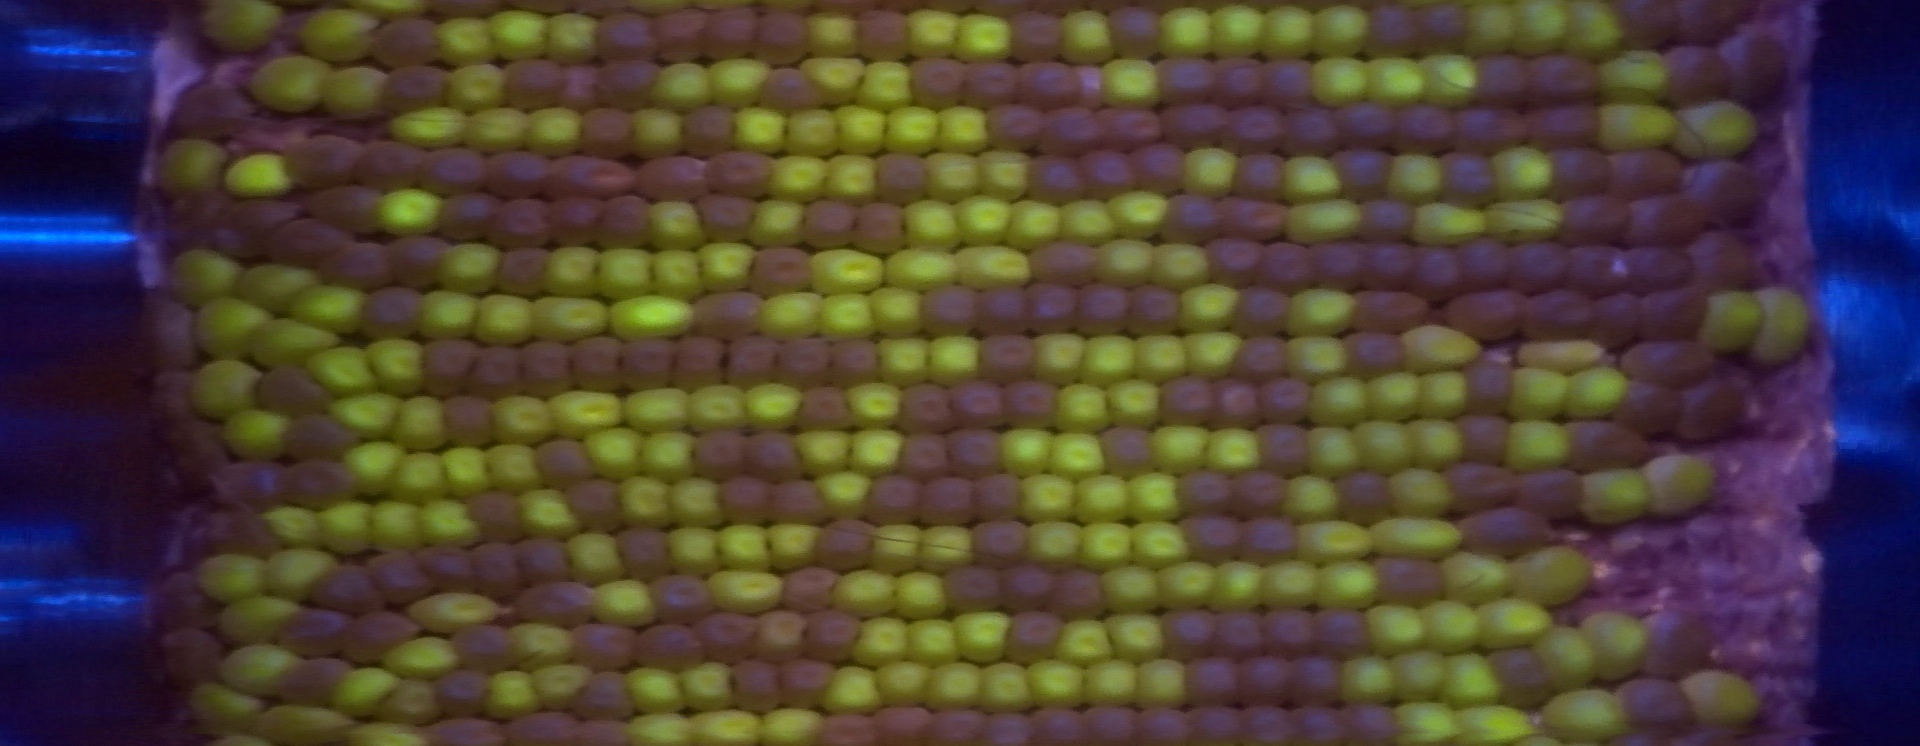fluorescent: (1507, 548, 1592, 609), (1674, 100, 1755, 164), (247, 58, 324, 116), (1543, 687, 1629, 740), (189, 356, 260, 419), (1644, 456, 1714, 517), (709, 563, 781, 619), (1701, 294, 1764, 356), (1598, 98, 1675, 149), (191, 301, 264, 355), (1757, 290, 1807, 369), (236, 260, 311, 312), (1687, 670, 1758, 725), (329, 666, 396, 725), (200, 1, 277, 51), (1404, 200, 1485, 247), (220, 644, 295, 696), (1296, 514, 1374, 563), (611, 296, 693, 343), (1283, 285, 1360, 334), (300, 9, 375, 59), (959, 241, 1033, 292), (1536, 625, 1598, 685), (1051, 380, 1116, 437), (169, 247, 235, 304), (411, 592, 503, 632), (1581, 468, 1647, 523), (1591, 610, 1644, 677), (955, 610, 1015, 670), (1442, 550, 1511, 601), (1480, 600, 1554, 648), (1502, 418, 1567, 472), (257, 318, 334, 364), (511, 620, 577, 673), (227, 409, 294, 461), (1024, 514, 1082, 573), (883, 247, 959, 293), (1456, 706, 1540, 746), (1369, 521, 1458, 559), (323, 62, 383, 119), (437, 15, 498, 70), (260, 702, 361, 735), (387, 109, 465, 152), (516, 488, 579, 540), (1404, 327, 1480, 371), (811, 247, 884, 293), (1603, 50, 1669, 100), (1485, 201, 1565, 243), (534, 298, 611, 341), (193, 555, 264, 601), (1030, 657, 1091, 710), (291, 285, 366, 330), (1447, 648, 1500, 710), (1422, 601, 1485, 653), (156, 141, 220, 191), (495, 10, 553, 65), (311, 345, 377, 394), (853, 612, 913, 666), (1510, 367, 1570, 421), (1389, 467, 1449, 521), (1384, 152, 1445, 205), (441, 240, 503, 292), (1515, 2, 1571, 59), (1303, 420, 1360, 475), (976, 659, 1031, 717), (1062, 9, 1116, 67), (465, 108, 531, 156), (329, 392, 396, 440), (1286, 198, 1359, 241), (1284, 332, 1346, 383), (372, 336, 421, 399), (709, 54, 764, 110), (492, 394, 549, 450), (396, 453, 452, 508), (1070, 470, 1127, 526), (1287, 470, 1343, 526), (421, 499, 478, 554), (375, 190, 440, 238), (553, 388, 618, 436), (216, 600, 291, 641), (1151, 241, 1213, 290), (260, 544, 322, 593), (1007, 195, 1062, 250), (260, 503, 315, 559), (1495, 145, 1550, 200), (909, 5, 960, 64), (1360, 421, 1419, 473), (484, 669, 542, 720), (696, 243, 757, 292), (384, 635, 451, 680), (1258, 563, 1324, 609), (1124, 473, 1187, 521), (182, 680, 258, 719), (222, 154, 289, 198), (825, 156, 880, 209), (955, 12, 1011, 65), (388, 397, 444, 450), (1179, 281, 1236, 333), (819, 292, 876, 344), (905, 200, 964, 250), (584, 430, 643, 480), (1149, 423, 1207, 473), (598, 247, 658, 296), (816, 470, 876, 519), (1044, 432, 1106, 480), (1570, 4, 1618, 65), (1315, 56, 1370, 109), (545, 246, 598, 301), (651, 198, 704, 254), (571, 533, 626, 586), (478, 289, 534, 341), (640, 428, 692, 484), (419, 285, 478, 334), (595, 578, 655, 626), (624, 668, 684, 715), (1515, 338, 1604, 370), (1085, 657, 1138, 710), (1155, 9, 1210, 60), (749, 198, 804, 250), (1423, 51, 1474, 107), (525, 108, 582, 158), (1156, 559, 1213, 608), (760, 292, 820, 338), (669, 479, 721, 532), (719, 521, 771, 573), (1371, 370, 1424, 423), (1314, 4, 1368, 55), (655, 246, 707, 300), (369, 499, 422, 550), (860, 58, 915, 108), (744, 380, 800, 430), (835, 567, 891, 616), (624, 391, 691, 432), (891, 567, 949, 615), (877, 659, 936, 706), (444, 66, 504, 111), (975, 149, 1027, 201), (1033, 330, 1085, 382), (1085, 333, 1136, 386), (1135, 333, 1187, 386), (927, 659, 980, 710), (731, 108, 785, 158), (1109, 376, 1160, 430), (444, 446, 495, 500), (542, 12, 598, 61), (1098, 241, 1153, 290), (1020, 472, 1075, 521), (1322, 559, 1378, 608), (1341, 657, 1396, 706), (809, 58, 866, 105), (883, 105, 940, 152), (1213, 1, 1259, 60), (1311, 383, 1371, 428), (1187, 147, 1239, 197), (350, 441, 400, 494), (1134, 660, 1188, 709), (633, 105, 681, 160), (1131, 521, 1187, 568), (867, 526, 924, 571), (928, 334, 978, 386), (1375, 603, 1425, 654), (1461, 2, 1513, 51), (1395, 650, 1447, 699), (838, 105, 885, 159), (1269, 5, 1316, 59), (871, 289, 924, 337), (849, 430, 902, 478), (683, 385, 743, 428), (485, 442, 540, 489), (1569, 367, 1625, 413), (787, 107, 838, 157), (320, 503, 370, 554), (1116, 187, 1164, 239), (620, 477, 669, 528), (1000, 425, 1049, 477), (1111, 612, 1162, 661), (1103, 59, 1157, 105), (1418, 416, 1464, 470), (1395, 701, 1455, 742), (939, 105, 988, 156), (797, 430, 846, 480), (926, 152, 977, 200), (959, 196, 1011, 243), (1205, 426, 1258, 473), (671, 527, 724, 573), (1284, 154, 1340, 198), (1079, 522, 1135, 565), (880, 337, 926, 390), (911, 612, 955, 666), (1104, 565, 1156, 610), (645, 62, 707, 100), (828, 666, 880, 710), (1423, 369, 1467, 421), (1062, 201, 1116, 244), (688, 710, 758, 744), (684, 664, 737, 707), (774, 157, 825, 200), (768, 521, 819, 563), (1058, 621, 1112, 661), (1216, 560, 1262, 606), (1187, 334, 1242, 374), (922, 526, 973, 567), (760, 710, 820, 746), (1368, 59, 1422, 98), (846, 380, 898, 420), (628, 710, 691, 744), (804, 15, 858, 53)
nonfluorescent: (179, 503, 276, 560), (1456, 506, 1554, 560), (1620, 334, 1716, 387), (1684, 163, 1753, 232), (168, 81, 247, 138), (1642, 612, 1707, 681), (1565, 415, 1644, 470), (1724, 40, 1785, 111), (1682, 381, 1746, 447), (1614, 379, 1681, 441), (1527, 50, 1597, 110), (284, 412, 361, 465), (378, 60, 451, 116), (1631, 290, 1709, 342), (222, 200, 295, 254), (1542, 145, 1615, 198), (1036, 105, 1107, 160), (162, 420, 220, 486), (1445, 462, 1518, 514), (1524, 289, 1593, 345), (1559, 194, 1630, 247), (756, 603, 811, 671), (707, 149, 781, 200), (369, 17, 440, 70), (1565, 243, 1636, 295), (691, 292, 764, 342), (1629, 197, 1702, 247), (1690, 228, 1749, 290), (508, 584, 599, 625), (1504, 236, 1569, 293), (327, 240, 399, 290), (1609, 149, 1689, 195), (591, 60, 661, 111), (1515, 465, 1580, 521), (280, 461, 355, 508), (550, 149, 631, 194), (1389, 103, 1456, 156), (1240, 511, 1300, 570), (1022, 152, 1086, 207), (522, 334, 576, 399), (305, 563, 380, 610), (471, 543, 523, 610), (1453, 103, 1526, 151), (504, 56, 567, 111), (1625, 677, 1687, 733), (283, 137, 359, 183), (345, 610, 421, 655), (637, 619, 700, 673), (307, 190, 384, 234), (360, 290, 426, 342), (1669, 48, 1727, 107), (1348, 330, 1412, 382), (896, 382, 955, 439), (700, 608, 759, 664), (1284, 104, 1344, 159), (157, 579, 217, 635), (453, 620, 516, 673), (277, 601, 345, 649), (1163, 194, 1228, 244), (220, 459, 285, 510), (613, 339, 678, 390), (1450, 292, 1515, 342), (1438, 152, 1495, 208), (546, 189, 601, 247), (1349, 290, 1423, 334), (1675, 2, 1749, 47), (571, 478, 623, 539), (698, 11, 760, 62), (634, 156, 709, 198), (960, 58, 1025, 107), (1076, 281, 1133, 337), (620, 528, 676, 584), (1336, 147, 1393, 202), (1316, 606, 1371, 664), (492, 194, 551, 247), (284, 655, 344, 708), (1333, 100, 1395, 152), (1229, 465, 1291, 517), (158, 628, 220, 679), (749, 250, 820, 294), (917, 472, 973, 527), (1476, 50, 1531, 107), (1183, 654, 1237, 712), (1402, 240, 1460, 294), (152, 300, 200, 365), (980, 332, 1040, 383), (744, 430, 804, 481), (520, 537, 572, 597), (419, 149, 489, 194), (1633, 245, 1700, 292), (276, 217, 338, 266), (1106, 9, 1162, 62), (391, 233, 444, 289), (727, 654, 781, 710), (1493, 649, 1547, 706), (1020, 59, 1078, 111), (1212, 604, 1265, 661), (354, 141, 419, 187), (977, 284, 1037, 334), (945, 430, 1005, 480), (1163, 100, 1224, 149), (1224, 109, 1286, 158), (163, 196, 224, 245), (486, 149, 552, 195), (470, 344, 525, 398), (1056, 563, 1109, 619), (779, 654, 834, 708), (806, 608, 862, 660), (1262, 608, 1319, 660), (923, 283, 982, 333), (1000, 610, 1059, 660), (653, 576, 713, 625), (1133, 278, 1180, 339), (1614, 1, 1675, 49), (578, 624, 640, 670), (863, 472, 917, 526), (1206, 238, 1261, 290), (144, 367, 200, 420), (1003, 380, 1056, 435), (1364, 1, 1416, 58), (566, 338, 622, 390), (467, 490, 523, 541), (1343, 695, 1400, 746), (1158, 608, 1216, 658), (940, 566, 1000, 614), (858, 9, 912, 61), (1160, 375, 1213, 428), (693, 431, 747, 484), (1234, 285, 1286, 341), (672, 341, 727, 392), (1007, 12, 1063, 62), (725, 474, 775, 530), (1526, 104, 1596, 145), (698, 194, 756, 243), (577, 670, 636, 718), (595, 13, 655, 60), (1227, 332, 1287, 379), (258, 365, 320, 410), (1416, 5, 1468, 58), (422, 339, 473, 394), (1162, 54, 1220, 102), (758, 10, 804, 69), (444, 390, 491, 448), (651, 11, 703, 64), (1261, 58, 1313, 110), (1258, 375, 1309, 428), (948, 377, 1000, 429), (1460, 412, 1513, 462), (1033, 240, 1098, 282), (437, 192, 492, 241), (370, 552, 425, 601), (600, 198, 656, 246), (534, 440, 590, 488), (504, 710, 583, 745), (1311, 243, 1369, 289), (793, 386, 851, 432), (1185, 514, 1243, 561), (422, 541, 474, 593), (580, 107, 634, 156), (804, 200, 858, 249), (1376, 555, 1430, 604), (1082, 147, 1138, 195), (1223, 198, 1288, 239), (773, 339, 831, 383), (876, 152, 926, 203), (1102, 428, 1153, 478), (858, 202, 907, 255), (1365, 235, 1414, 288), (973, 521, 1026, 570), (1341, 472, 1393, 521), (1237, 657, 1289, 706), (1291, 654, 1344, 702), (500, 244, 545, 300), (759, 69, 822, 109), (820, 518, 869, 570), (1591, 294, 1633, 353), (441, 664, 489, 717), (1236, 156, 1292, 200), (1107, 108, 1164, 151), (1138, 145, 1185, 196), (1464, 364, 1512, 415), (1356, 198, 1416, 239), (722, 334, 771, 383), (982, 108, 1040, 149), (1031, 704, 1089, 746), (1031, 281, 1076, 333), (1000, 566, 1054, 610), (1135, 706, 1194, 746), (1174, 472, 1229, 514), (972, 470, 1018, 522), (915, 67, 967, 111), (681, 105, 733, 149), (1264, 243, 1307, 296), (771, 480, 825, 523), (827, 339, 879, 382), (1262, 424, 1305, 477), (1292, 707, 1349, 746), (866, 712, 931, 746), (784, 567, 835, 610), (1215, 383, 1262, 429), (1236, 703, 1286, 746), (1464, 245, 1506, 296), (1085, 706, 1138, 746), (1220, 60, 1262, 109), (896, 434, 948, 474), (924, 710, 984, 744), (1194, 708, 1243, 746), (433, 720, 504, 746), (982, 710, 1030, 746), (822, 714, 872, 746), (1074, 67, 1109, 110), (564, 65, 594, 108)
